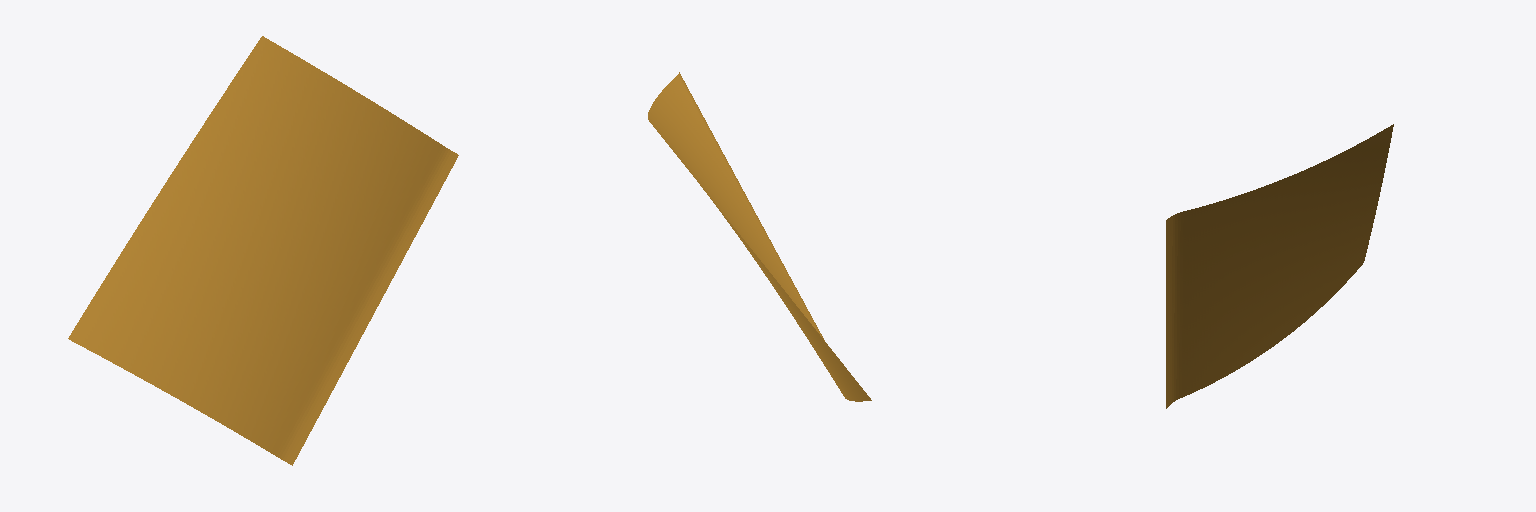
Rendered from Page_13-14_Plane_005.obj.
3 renders of one model, left to right at view 1: azimuth 30°, elevation 25°; view 2: azimuth 150°, elevation 25°; view 3: azimuth 270°, elevation 25°, orthographic.
Parts seen in each view (by area): view 1: Page_13-14_Plane.005; view 2: Page_13-14_Plane.005; view 3: Page_13-14_Plane.005.
Boxes of the visible parts, <box> form: Page_13-14_Plane.005: <box>68,36,458,465</box>; Page_13-14_Plane.005: <box>648,72,871,401</box>; Page_13-14_Plane.005: <box>1166,124,1393,408</box>.
Bounding box in the file's own units: 3.87 × 4.13 × 2.62.